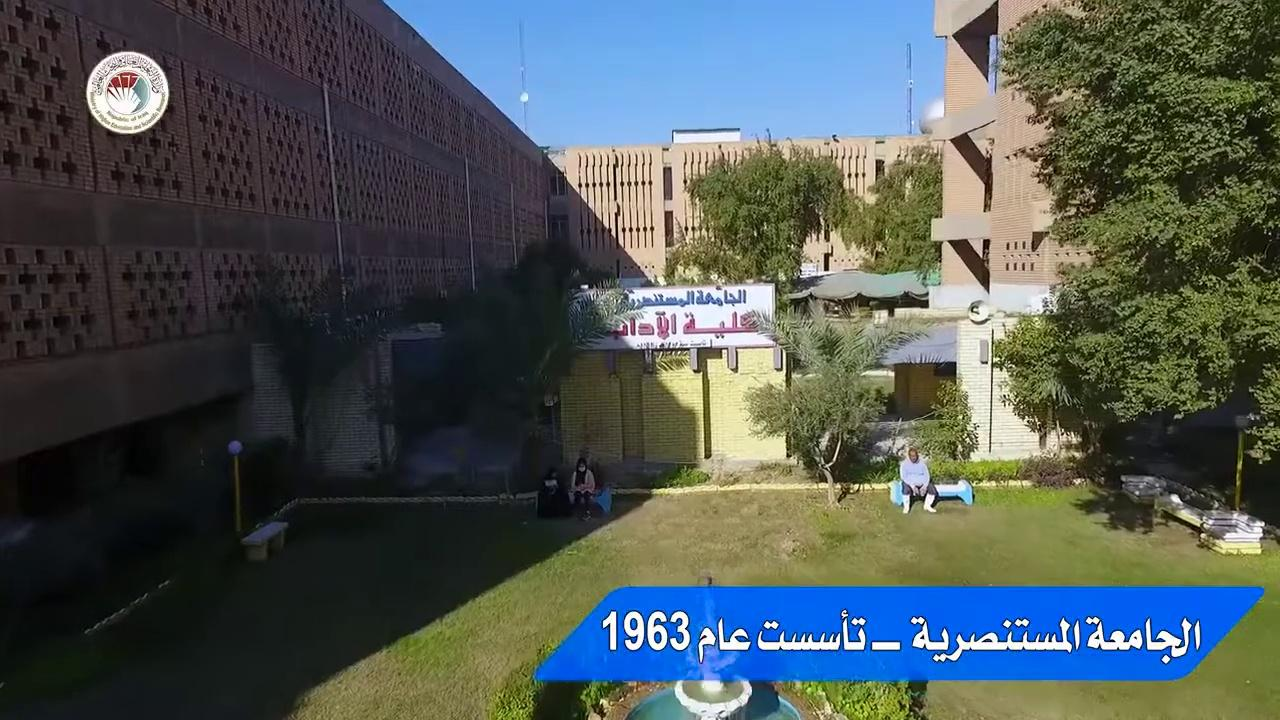fountain: (627, 573, 807, 720)
person: (899, 446, 938, 513), (535, 466, 570, 518), (568, 457, 595, 520)
tree: (989, 0, 1278, 494), (661, 130, 866, 465), (432, 236, 641, 493), (991, 258, 1212, 484), (729, 307, 925, 516), (238, 256, 402, 483), (662, 129, 863, 295), (990, 306, 1116, 463), (845, 142, 943, 286), (912, 376, 980, 463)
